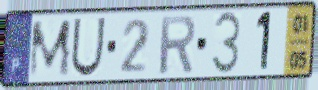1: (253, 9, 274, 75)
2: (119, 17, 152, 75)
3: (209, 9, 243, 77)
M: (27, 17, 73, 81)
R: (157, 14, 197, 77)
U: (69, 16, 108, 79)
